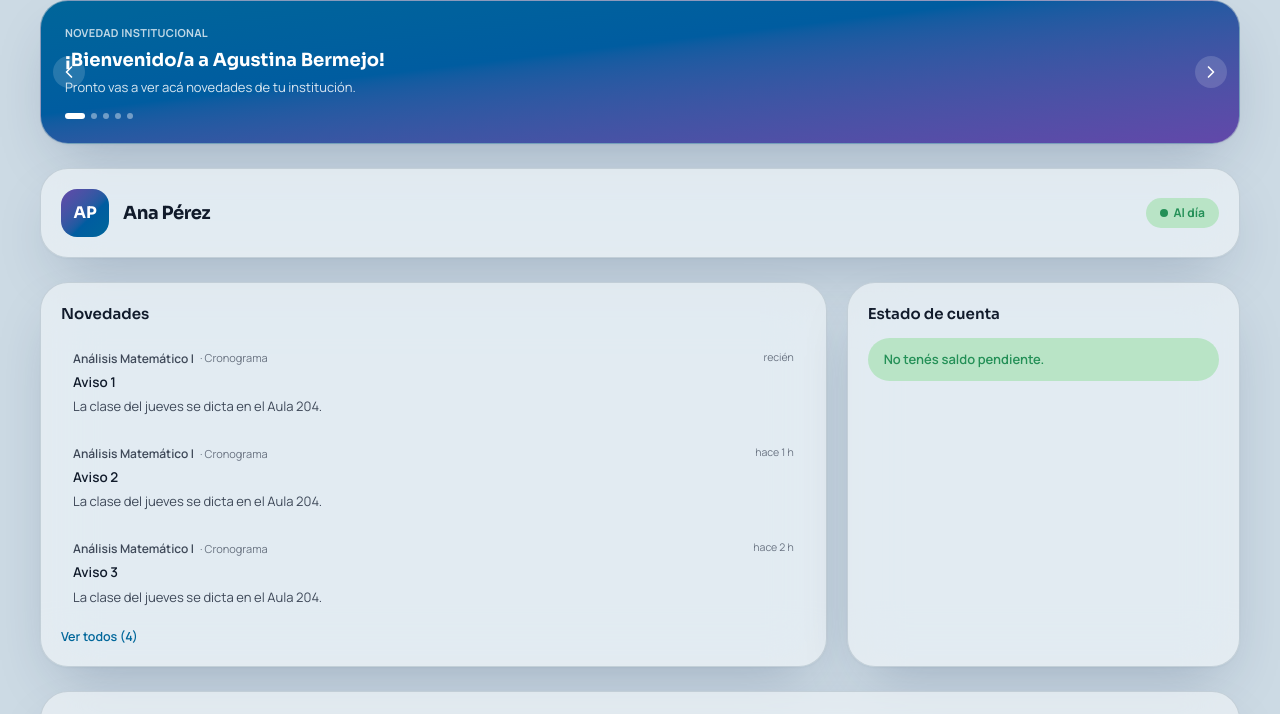
Test: AlumnoInicio — Novedades › expandir la lista no colapsa los avisos individuales ya expandidos
expect the text "Aviso 1" is shown: met, box [73,372,116,390]
Click the button "Ver todos (4)": point(99, 637) [61,628,138,646]
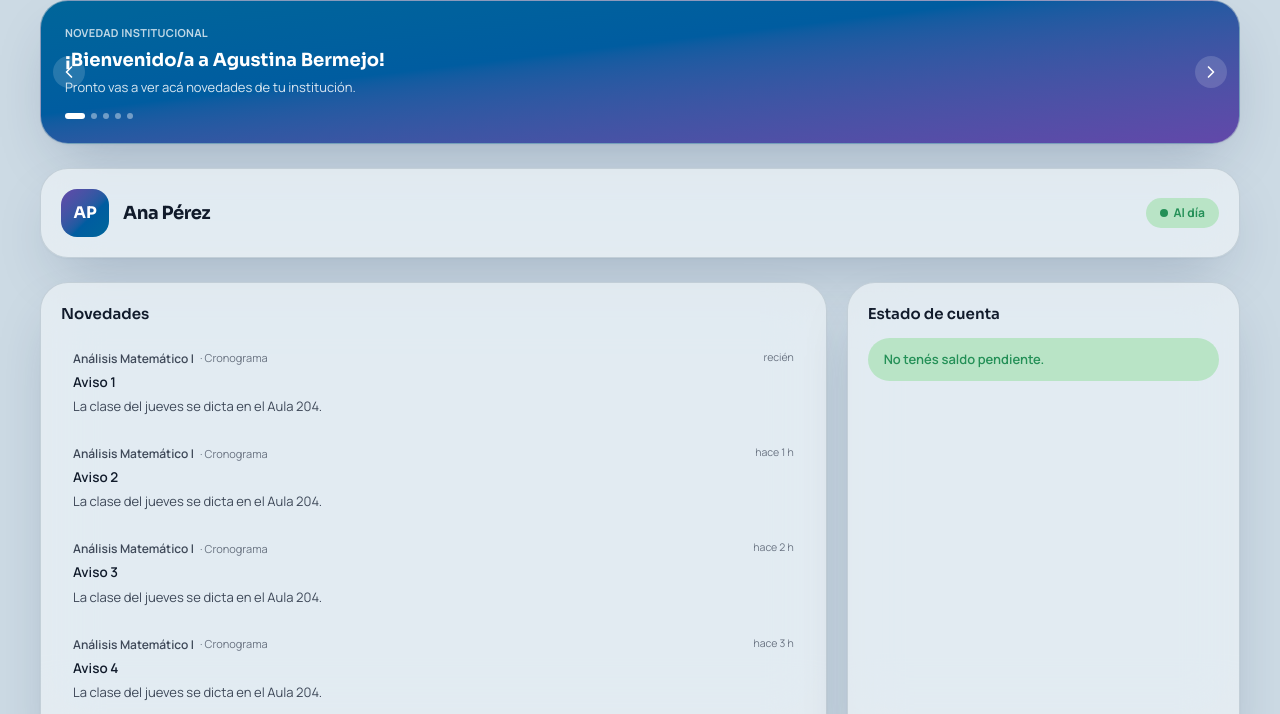
expect the text "Aviso 4" is shown: met, box [73,659,118,677]
